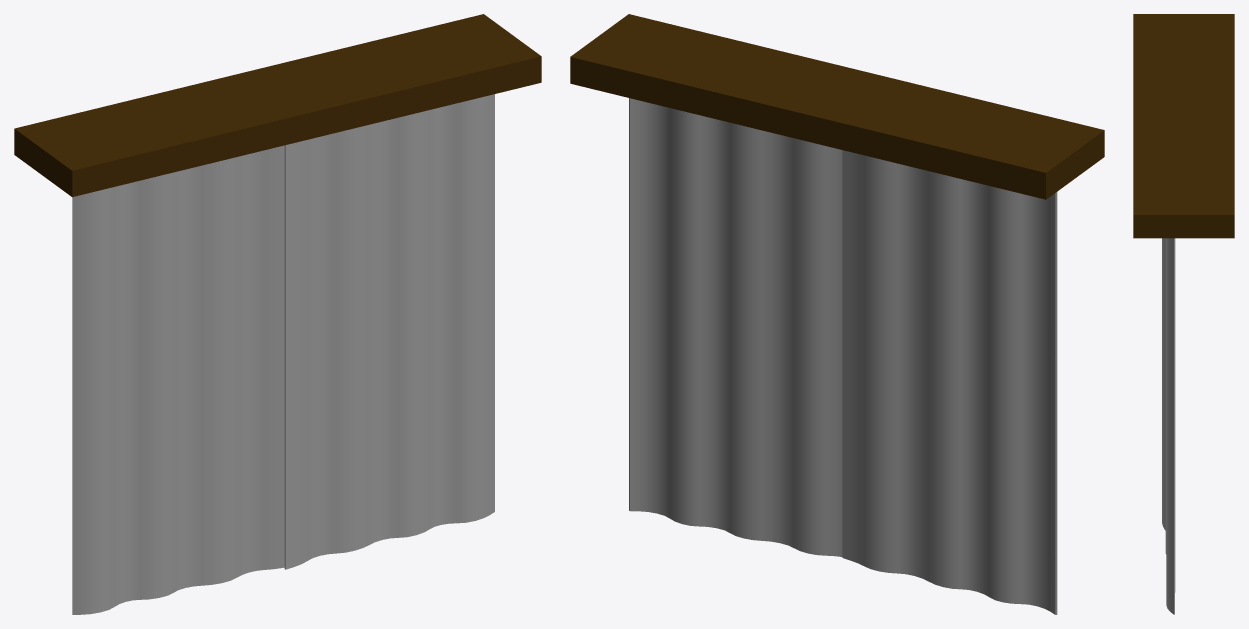
The model's file is curtains_closed.fbx.
3 renders of one model, left to right at view 1: azimuth 30°, elevation 25°; view 2: azimuth 150°, elevation 25°; view 3: azimuth 270°, elevation 25°, orthographic. The views are drawn at different scales.
Visible parts, largest first — view 1: polySurface289; view 2: polySurface289; view 3: polySurface289.
Part boxes in pixels (x1,y1,x2,y2): polySurface289: (14,14,541,614); polySurface289: (570,14,1104,614); polySurface289: (1133,14,1234,614).
Size of the model in its own units: 1.96 by 1.86 by 0.4171.
